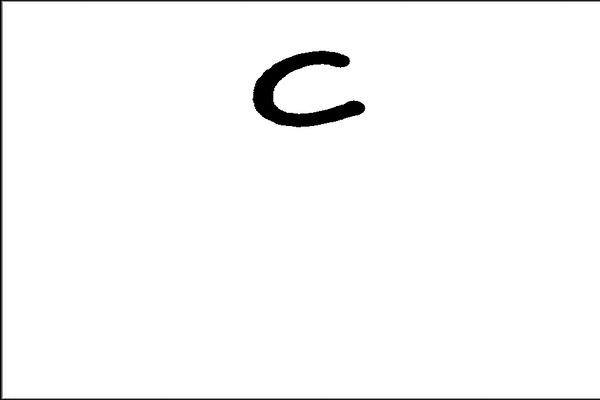C: (246, 42, 370, 131)
